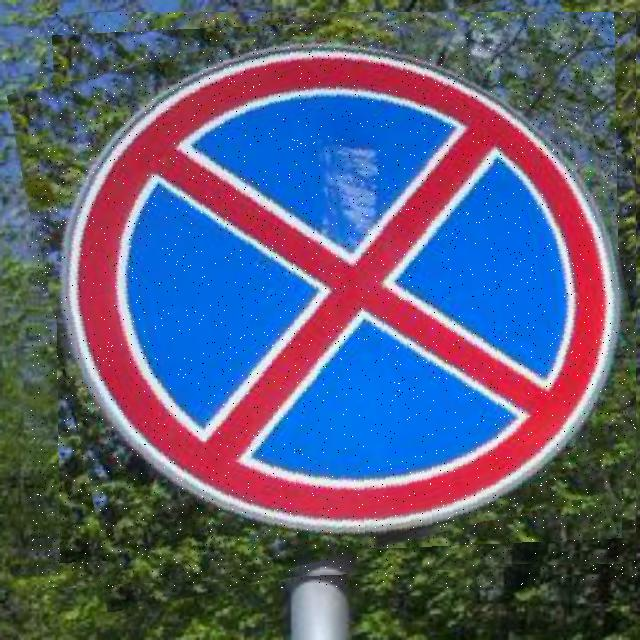no stopping: (30, 12, 636, 588)
